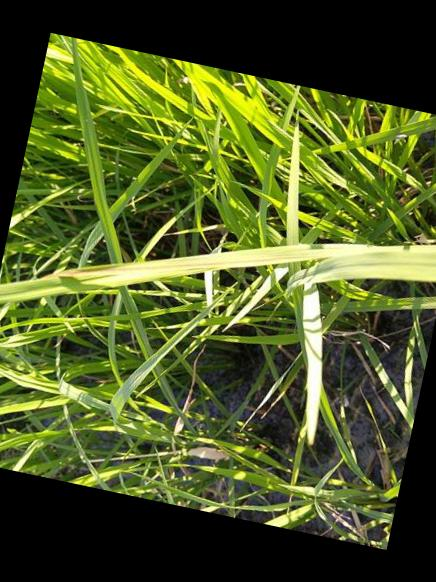Leaf Streak: (54, 242, 370, 285)
